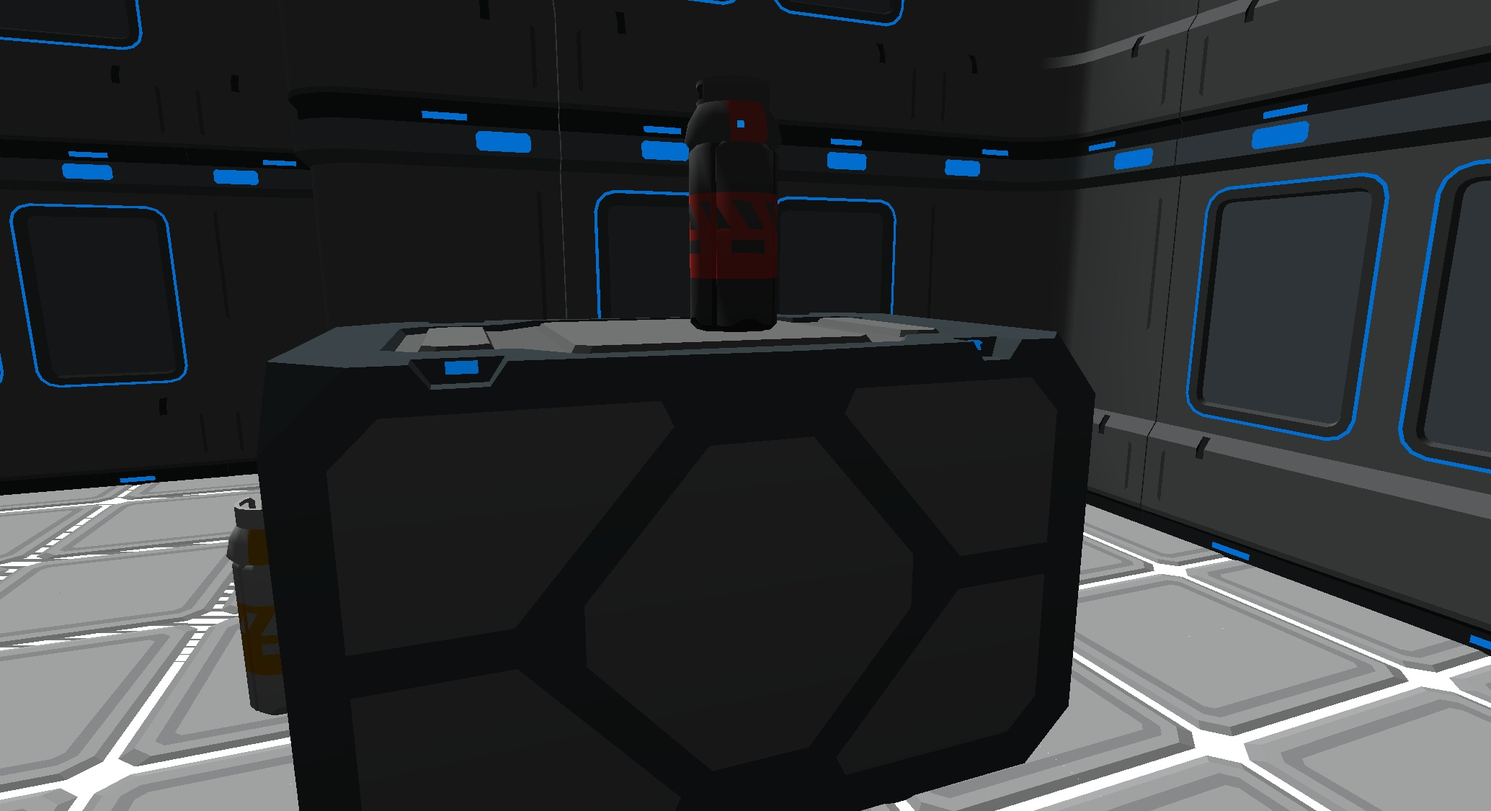red_barrel: (686, 76, 780, 331)
yellow_barrel: (228, 497, 287, 714)
